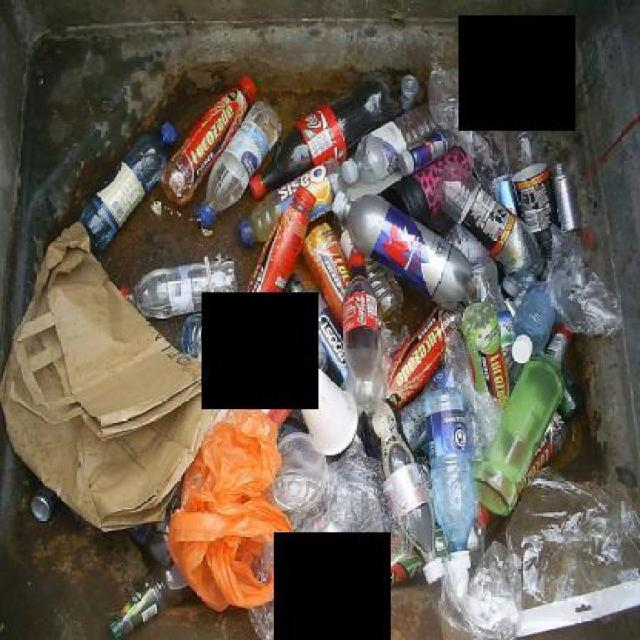plastic bag: (248, 432, 415, 638), (166, 403, 291, 619), (504, 466, 640, 612), (428, 58, 508, 194), (543, 219, 625, 343), (438, 537, 522, 638)
